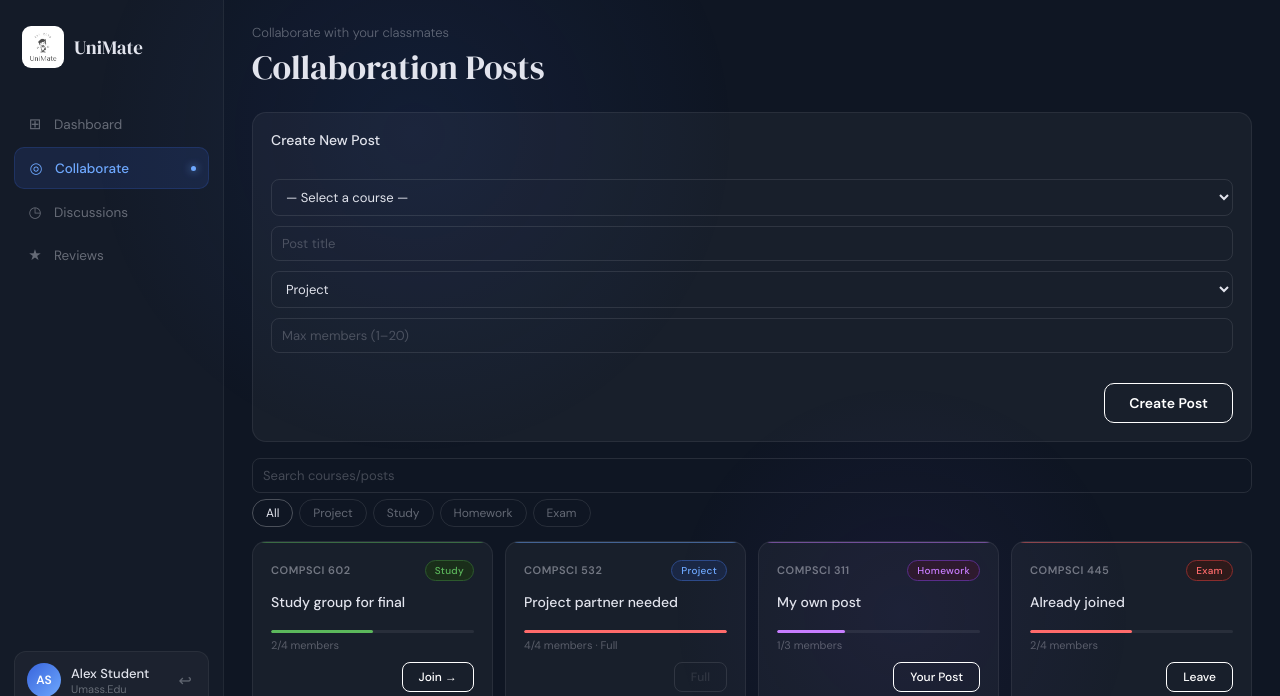
Scenario: CollaboratePage › creating a post › shows error when course code is empty
Type "My Post" into the field with placeholder "Post title" at point(752, 243), box [271,226,1233,261]
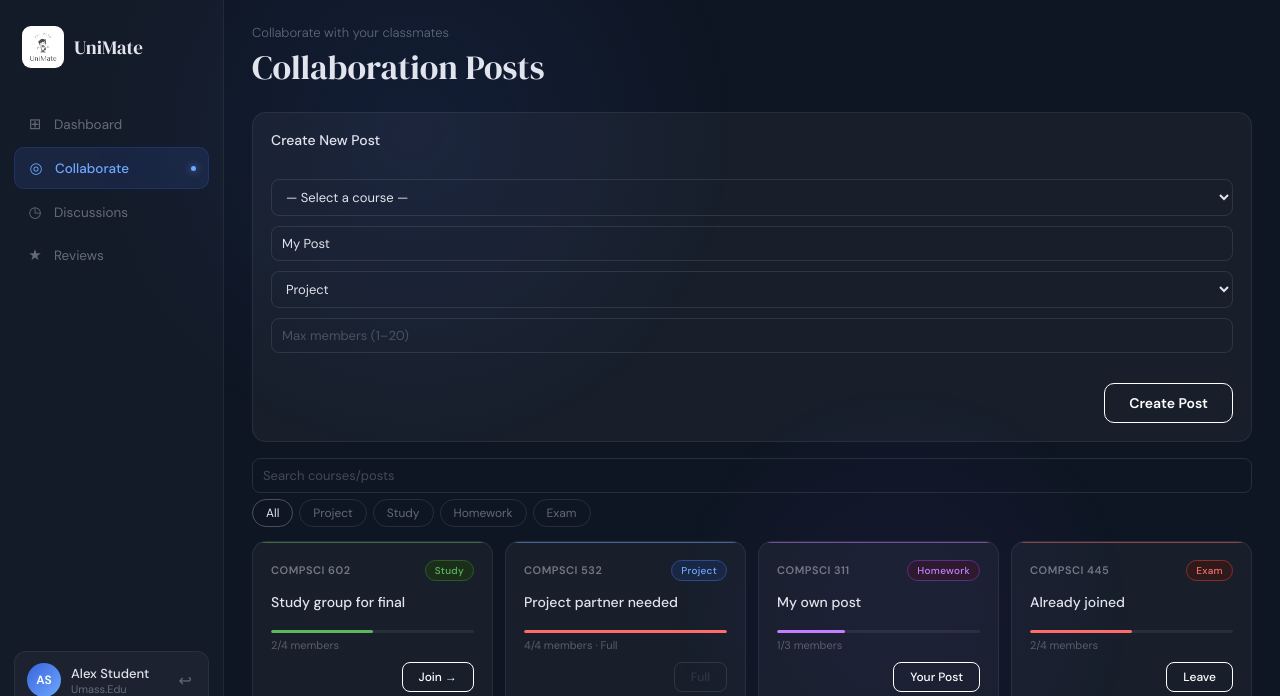
Click the button "Create Post" at point(1169, 403), box [1104,383,1233,423]
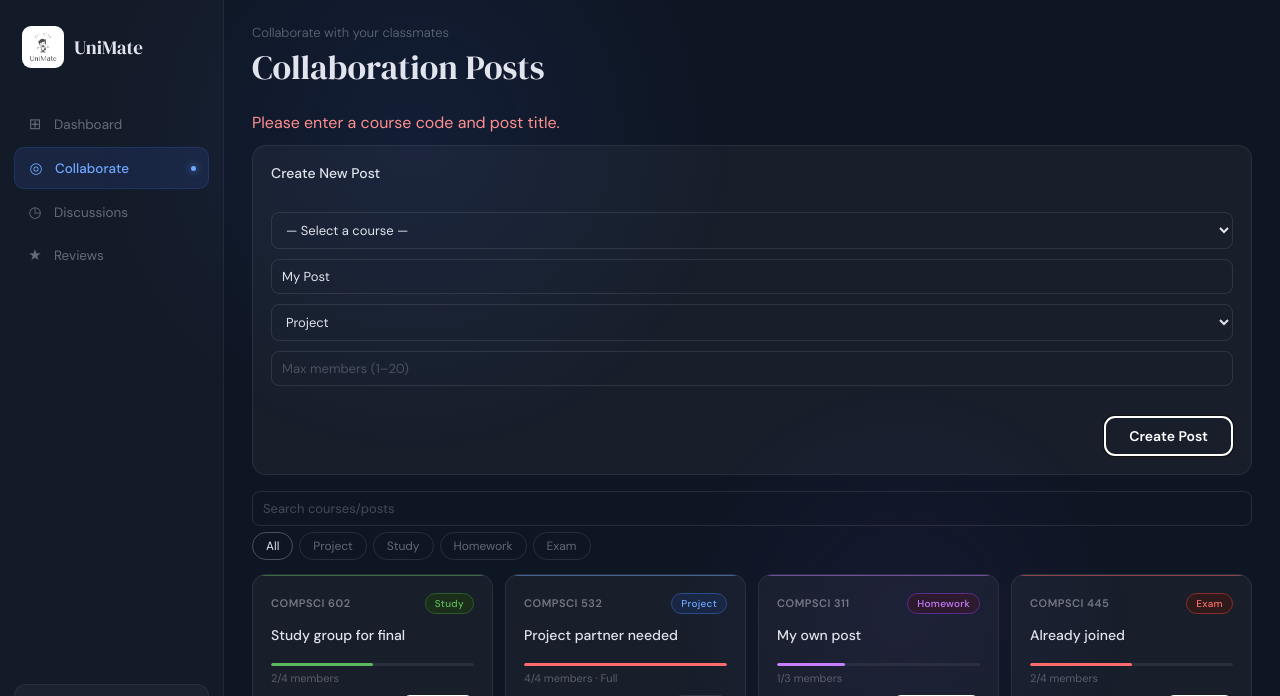
expect the text "Please enter a course code and post title." is shown: met, box [252,112,560,133]
